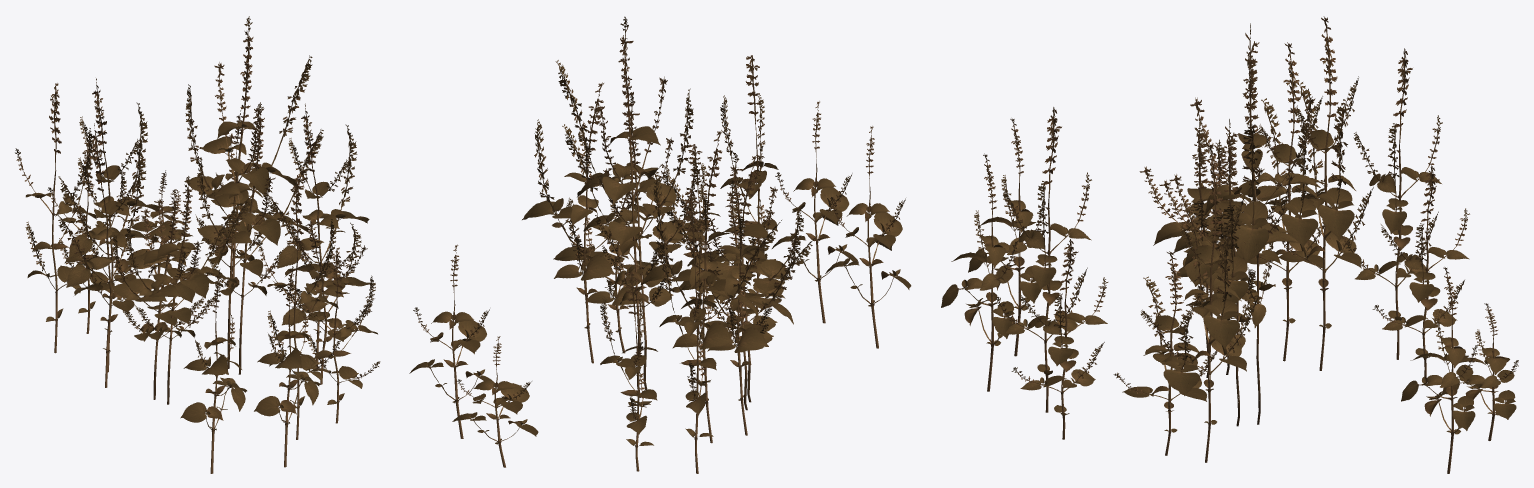
The model's file is RF3_Withered_Shrub.fbx.
3 views of the same model, side by side, from view 1: azimuth 30°, elevation 25°; view 2: azimuth 150°, elevation 25°; view 3: azimuth 270°, elevation 25° (orthographic). The views are drawn at different scales.
Visible parts, largest first — view 1: RF3_Withered_Shrub; view 2: RF3_Withered_Shrub; view 3: RF3_Withered_Shrub.
Boxes of the visible parts, <box> form: RF3_Withered_Shrub: <box>15,16,380,473</box>; RF3_Withered_Shrub: <box>409,16,911,473</box>; RF3_Withered_Shrub: <box>941,16,1518,473</box>.
Size of the model in its own units: 92.45 by 104 by 132.
